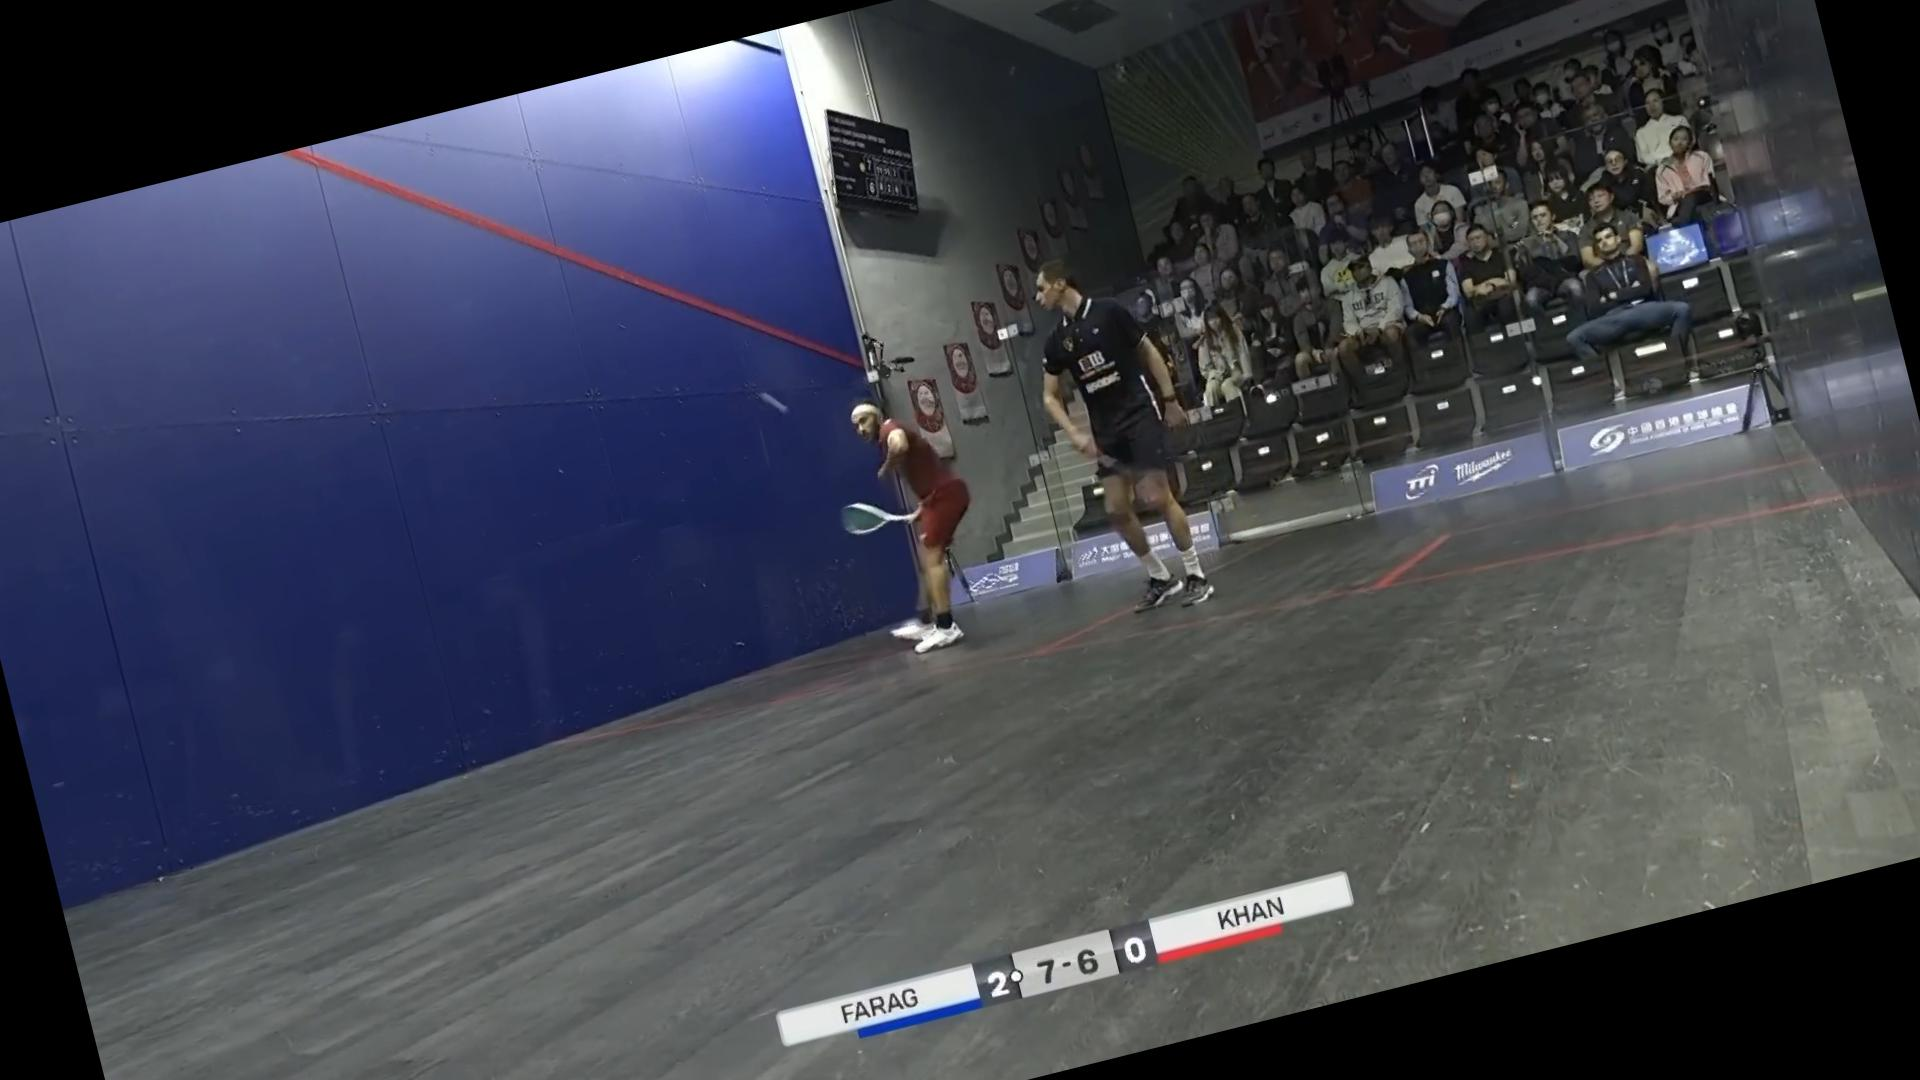Racket: (828, 477, 927, 549)
